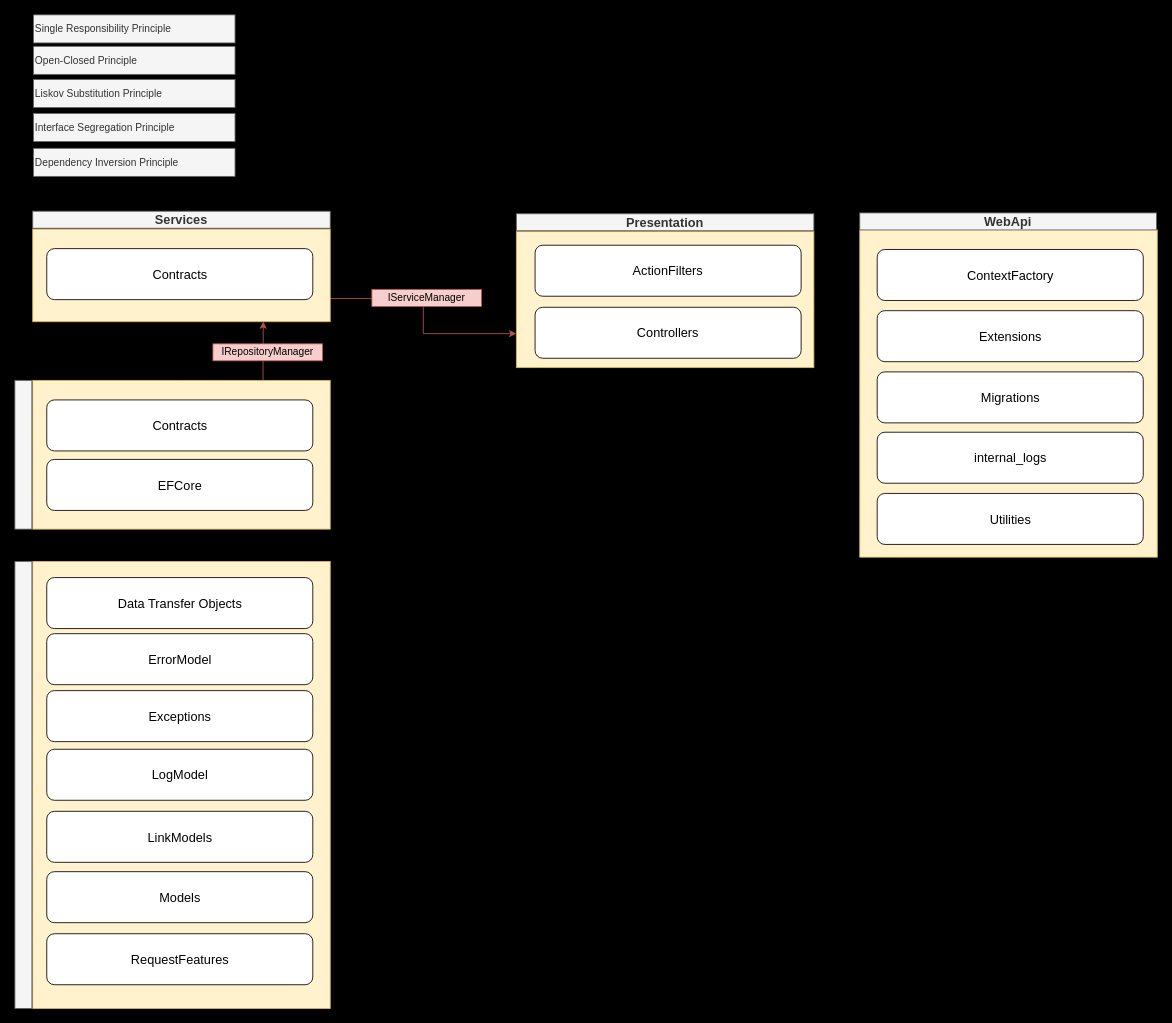
Image size: 1172x1023. Some labels were removed from this diagram. The box of each missing label's shape, as (x1, y1, x2, y2) in pixels:
Entities: (14, 561, 32, 1009)
Repositories: (14, 380, 32, 529)
